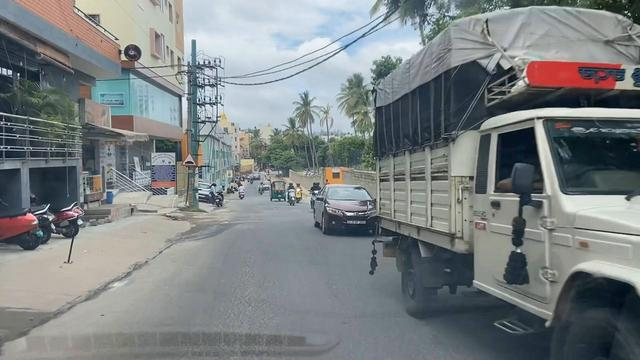HMV: (369, 0, 640, 360)
LMV: (309, 176, 381, 249)
